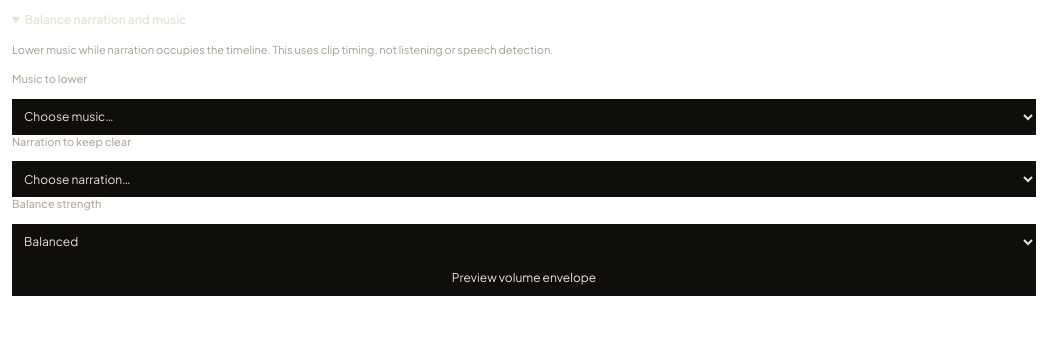
Test: Audio balance panel › reports inaudible sources without applying
Select "Audio: music-file" in the dropdown labelled "Music to lower": (524,117) x1=12 y1=99 x2=1036 y2=135
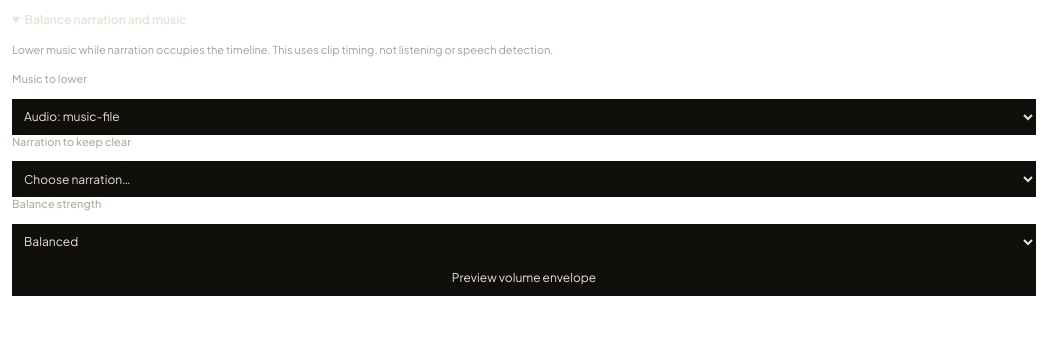
Select "Audio: voice-file" in the dropdown labelled "Narration to keep clear": (524,179) x1=12 y1=161 x2=1036 y2=197
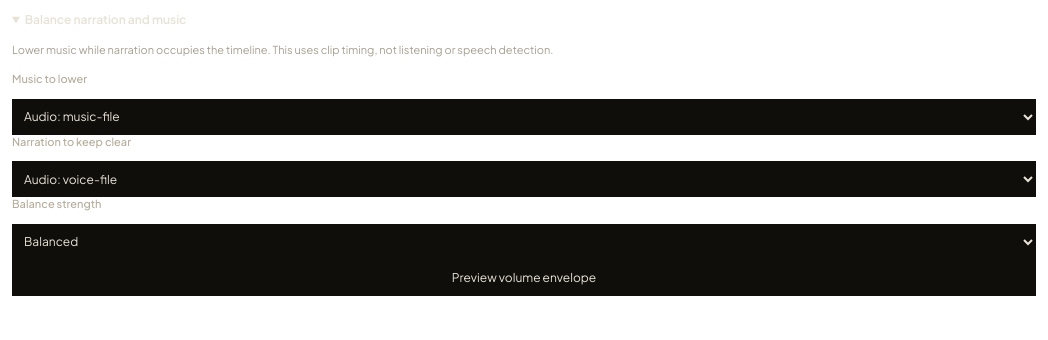
Click the button "Preview volume envelope": (524,278) x1=12 y1=260 x2=1036 y2=296
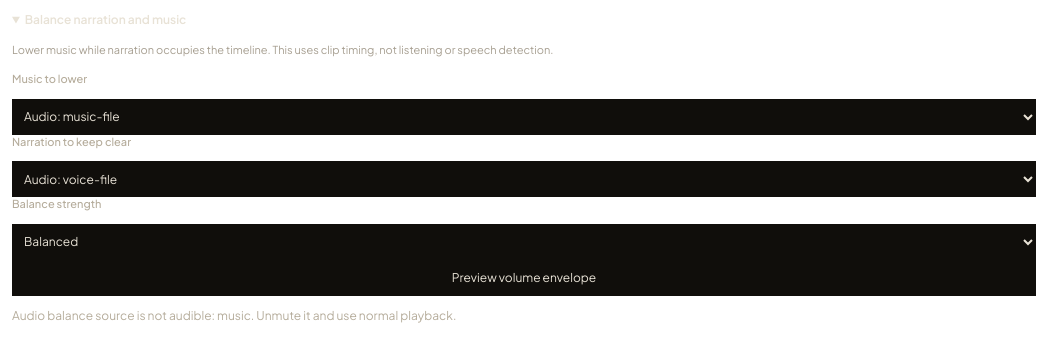
Check: the message shows "not audible", box x1=12 y1=308 x2=456 y2=323
